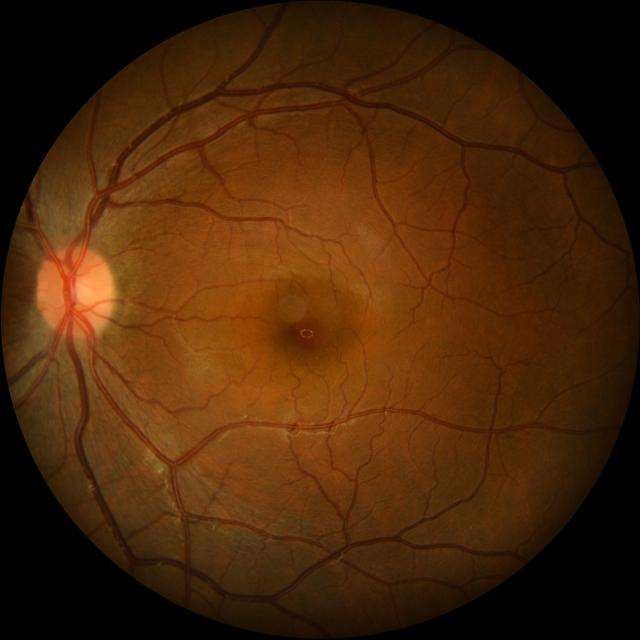OC: (65, 273, 96, 310)
OD: (37, 246, 114, 338)
